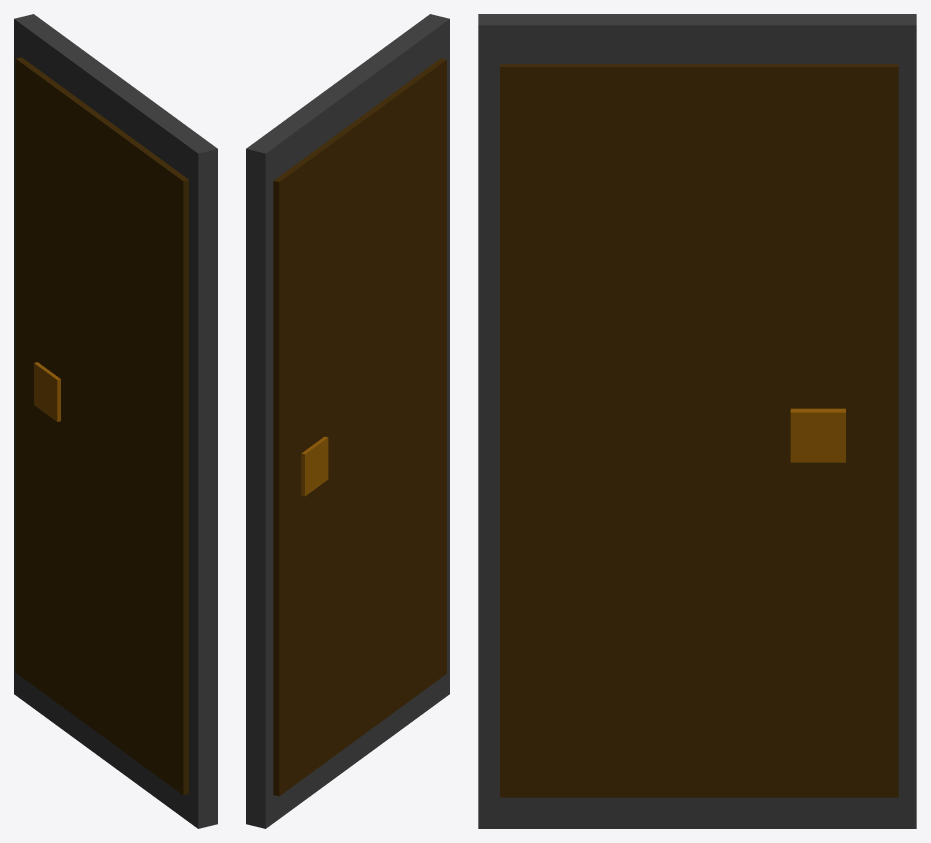
The model's file is Bonito Factory door.fbx.
3 views of the same model, side by side, from view 1: azimuth 30°, elevation 25°; view 2: azimuth 150°, elevation 25°; view 3: azimuth 270°, elevation 25° (orthographic). The views are drawn at different scales.
Visible parts, largest first — view 1: Cube.002; view 2: Cube.002; view 3: Cube.002.
Part boxes in pixels (bbox=[...]): Cube.002: bbox=[14, 14, 217, 828]; Cube.002: bbox=[246, 14, 449, 828]; Cube.002: bbox=[478, 14, 916, 828].
Size of the model in its own units: 41.05 by 658 by 325.
